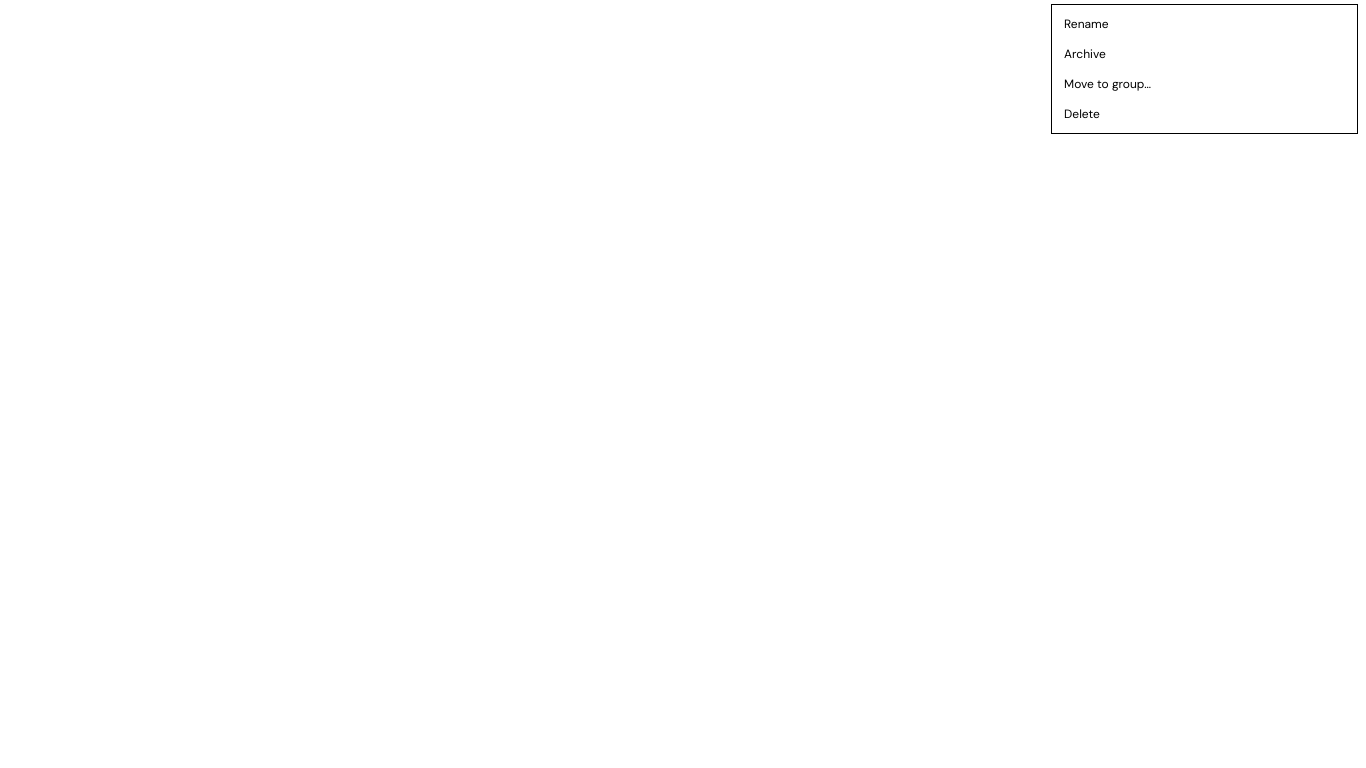
Test: ThreadActionMenu — focus management (WCAG 2.4.3) › rename input field receives focus on rename transition
Click the menu item "Rename" at coordinates (1086, 24), box top-left (1052, 9), bottom-right (1357, 39)
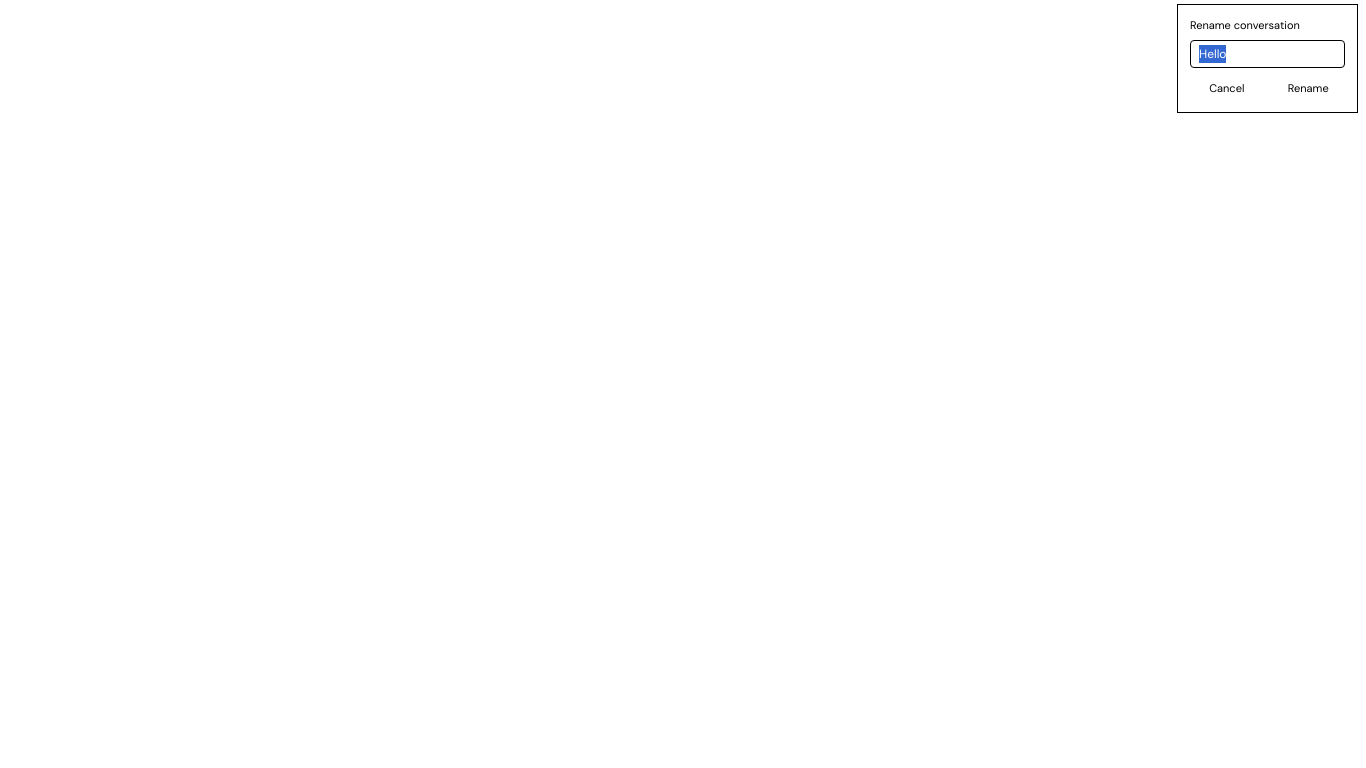
expect the field named "Conversation title" is shown: met, box top-left (1190, 40), bottom-right (1345, 68)
